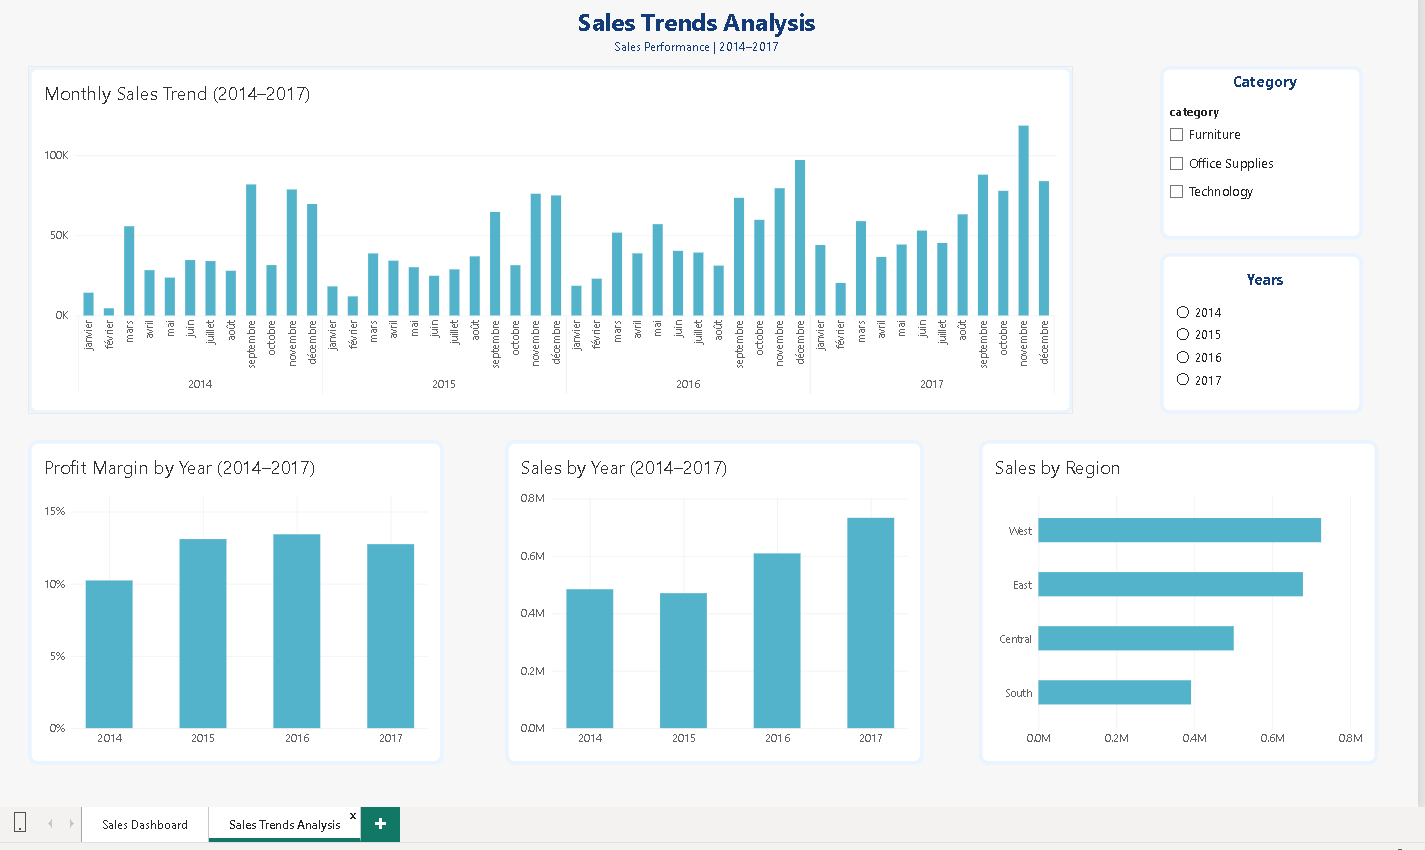

The dashboard page shown, as its layout file describes it:
{"tool":"powerbi","page":{"name":"Sales Trends Analysis","canvas":[1920,1080],"ordinal":1},"visuals":[{"type":"clusteredColumnChart","title":"Monthly Sales Trend (2014–2017)","fields":{"Category":["public superstore.order_date.Variation.Hiérarchie de dates.Année","public superstore.order_date.Variation.Hiérarchie de dates.Mois"],"Y":["Sum(public superstore.sales)"]},"box":[71.8,94.4,1389.9,462.9],"z":0},{"type":"clusteredColumnChart","title":"Sales by Year (2014–2017)","fields":{"Category":["public superstore.order_date.Variation.Hiérarchie de dates.Année"],"Y":["Sum(public superstore.sales)"]},"box":[706.3,591.9,557.3,432.3],"z":1},{"type":"clusteredColumnChart","title":"Profit Margin by Year (2014–2017)","fields":{"Category":["public superstore.order_date.Variation.Hiérarchie de dates.Année"],"Y":["public superstore.Profit Margin"]},"box":[71.8,591.9,553.3,432.3],"z":2},{"type":"clusteredBarChart","title":"Sales by Region","fields":{"Category":["public superstore.region"],"Y":["Sum(public superstore.sales)"]},"box":[1336.7,591.9,530.7,432.3],"z":3},{"type":"listSlicer","title":"Years","fields":{"Values":["public superstore.order_date.Variation.Hiérarchie de dates.Année"]},"box":[1577.4,343.2,270,214.1],"z":4},{"type":"slicer","title":"Category","fields":{"Values":["public superstore.category"]},"box":[1577.4,94.4,270,231.4],"z":5},{"type":"textbox","box":[658.4,12,605.2,74.5],"z":6}]}

Visuals, with their boxes on the page's 1920x1080 design canvas (x1, y1, x2, y2). These are canvas units, not pixel positions in the 1425x850 screenshot, which may show the page scaled, cropped or inside an application window:
"Monthly Sales Trend (2014–2017)" clusteredColumnChart: bbox(72, 94, 1462, 557)
"Sales by Year (2014–2017)" clusteredColumnChart: bbox(706, 592, 1264, 1024)
"Profit Margin by Year (2014–2017)" clusteredColumnChart: bbox(72, 592, 625, 1024)
"Sales by Region" clusteredBarChart: bbox(1337, 592, 1867, 1024)
"Years" listSlicer: bbox(1577, 343, 1847, 557)
"Category" slicer: bbox(1577, 94, 1847, 326)
textbox: bbox(658, 12, 1264, 86)
